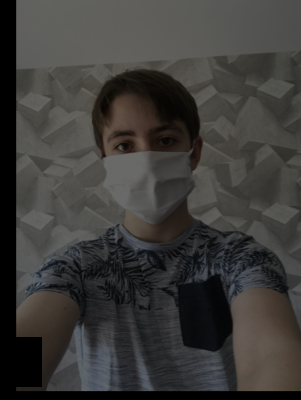with_mask: (102, 118, 195, 225)
